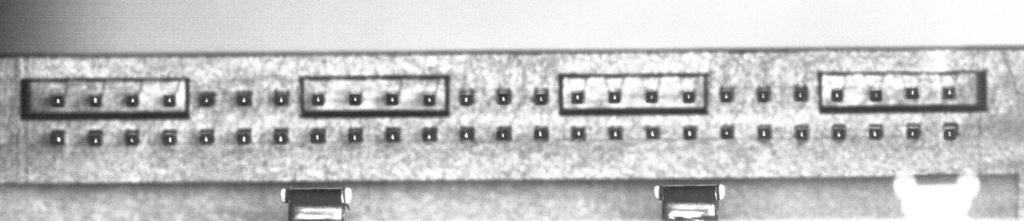pin_ok: (942, 121, 959, 140), (197, 90, 216, 107), (272, 89, 289, 106), (235, 90, 253, 106), (236, 127, 252, 144), (87, 129, 103, 146), (831, 123, 847, 140), (533, 87, 549, 104), (459, 88, 475, 105), (273, 128, 289, 144), (161, 129, 177, 145), (794, 125, 810, 141), (868, 124, 884, 140), (49, 129, 65, 145), (496, 88, 512, 104), (458, 126, 475, 141), (496, 126, 512, 141), (309, 128, 325, 143), (422, 127, 438, 142), (198, 129, 214, 144), (347, 127, 362, 143), (124, 129, 139, 145), (644, 125, 660, 140), (906, 124, 921, 140), (756, 86, 771, 102), (571, 125, 586, 140), (385, 127, 400, 142), (720, 87, 735, 102), (794, 85, 808, 101), (533, 126, 548, 140), (608, 126, 623, 140), (720, 124, 734, 139), (683, 125, 697, 140), (757, 125, 771, 140), (869, 87, 883, 102), (942, 85, 956, 99), (570, 90, 584, 104), (311, 92, 325, 106), (162, 93, 176, 107), (645, 89, 658, 103), (682, 90, 696, 103), (125, 94, 139, 107), (905, 86, 919, 99), (348, 92, 362, 105), (385, 92, 399, 105), (608, 89, 621, 103), (423, 92, 436, 106), (830, 88, 843, 102), (88, 94, 101, 106), (52, 95, 64, 107)
